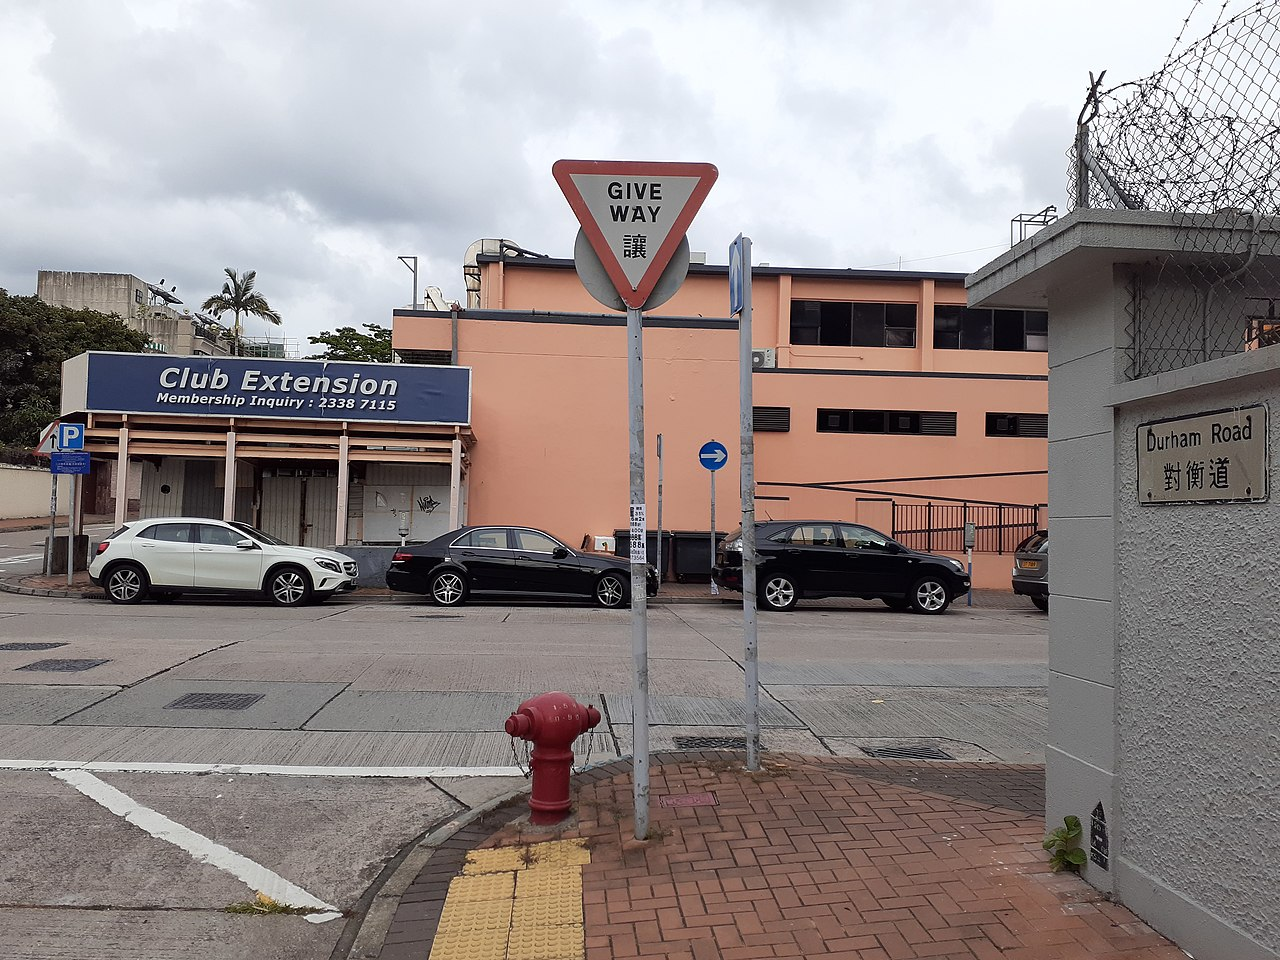Give Way: (544, 147, 720, 298)
Parking: (57, 422, 86, 451)
Turn Right: (697, 438, 730, 470)
